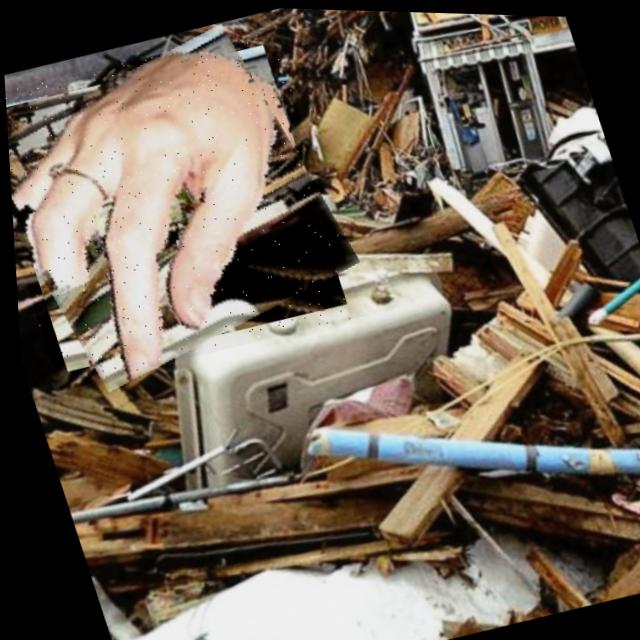Person in Rubble: (1, 18, 364, 395)
